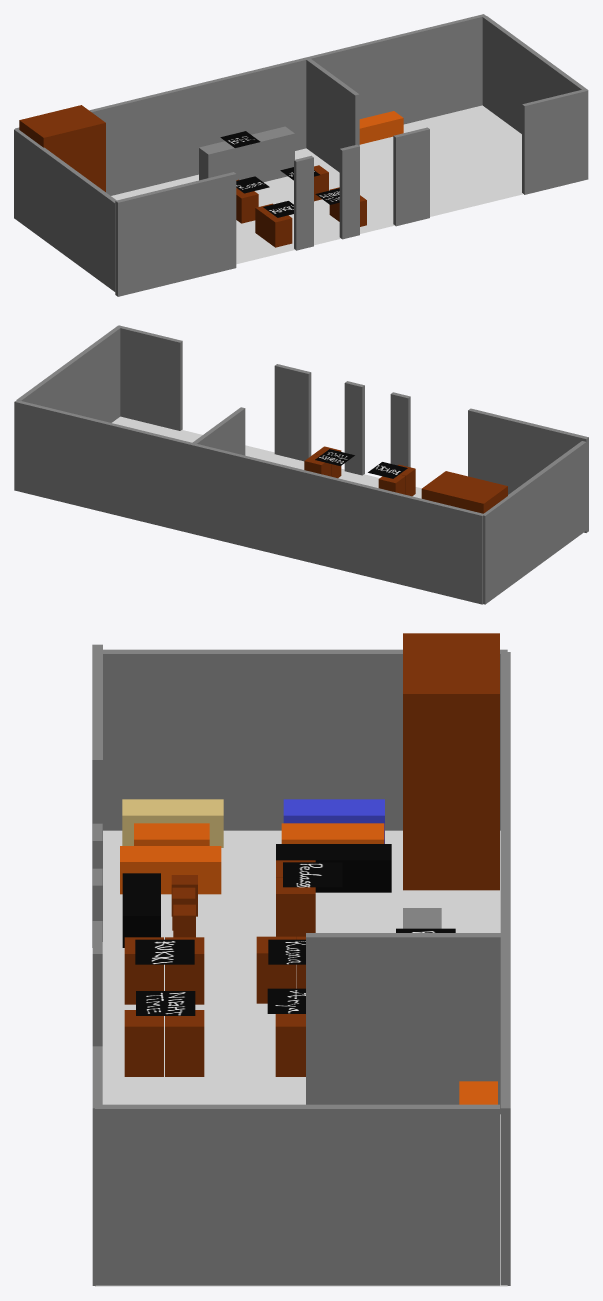
The model's file is proposed_layout_V3.glb.
The picture shows the model from 3 angles, top to bottom: view 1: azimuth 30°, elevation 25°; view 2: azimuth 150°, elevation 25°; view 3: azimuth 270°, elevation 25°; orthographic projection. The views are drawn at different scales.
Parts seen in each view (by area): view 1: Wall.010, Plane.004, Wall.012, Wall.015, Wall.019, Wall.017, Wall.013, Wall.011, SmallTable.018, AperolSpritzTable.021, Wall.016, Wall.018 (+7 smaller); view 2: Wall.010, Wall.012, Wall.019, Wall.015, Wall.017, Wall.013, Wall.016, SmallTable.018, Plane.004, Wall.018, Wall.011, Wall.014 (+4 smaller); view 3: Wall.013, Wall.019, Plane.004, Wall.011, SmallTable.018, Wall.012, AperolSpritzTable.019, AperolSpritzTable.012, AperolSpritzTable.016, Wall.010, AperolSpritzTable.017, AperolSpritzTable.018 (+18 smaller).
Boxes of the visible parts, x1,y1,x2,y2 form: Wall.010: [15, 57, 307, 195]; Plane.004: [111, 105, 523, 264]; Wall.012: [309, 14, 485, 124]; Wall.015: [115, 172, 236, 296]; Wall.019: [14, 128, 116, 292]; Wall.017: [522, 89, 588, 194]; Wall.013: [482, 16, 587, 133]; Wall.011: [305, 57, 359, 172]; SmallTable.018: [19, 105, 105, 191]; AperolSpritzTable.021: [199, 126, 294, 182]; Wall.016: [393, 127, 429, 226]; Wall.018: [339, 144, 359, 239]; Wall.010: [192, 443, 484, 604]; Wall.012: [14, 400, 191, 533]; Wall.019: [483, 441, 586, 604]; Wall.015: [468, 408, 588, 532]; Wall.017: [118, 325, 182, 430]; Wall.013: [17, 325, 121, 422]; Wall.016: [274, 364, 311, 461]; SmallTable.018: [421, 471, 507, 513]; Plane.004: [112, 416, 421, 498]; Wall.018: [344, 381, 364, 475]; Wall.011: [190, 407, 245, 533]; Wall.014: [390, 392, 410, 467]; Wall.013: [95, 1104, 499, 1286]; Wall.019: [103, 649, 507, 830]; Plane.004: [95, 830, 507, 1286]; Wall.011: [306, 933, 510, 1114]; SmallTable.018: [403, 633, 499, 890]; Wall.012: [500, 937, 510, 1285]; AperolSpritzTable.019: [276, 844, 391, 892]; AperolSpritzTable.012: [120, 846, 221, 894]; AperolSpritzTable.016: [122, 799, 223, 847]; Wall.010: [500, 652, 510, 934]; AperolSpritzTable.017: [283, 799, 384, 843]; AperolSpritzTable.018: [122, 873, 160, 947].
Bounding box in the file's own units: 21.5 × 4.41 × 8.26.
13 materials, 6 textured.
